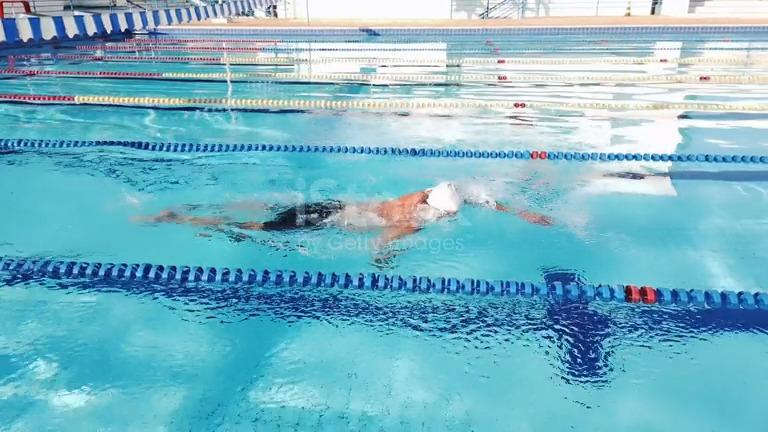Swimming: (130, 177, 557, 267)
